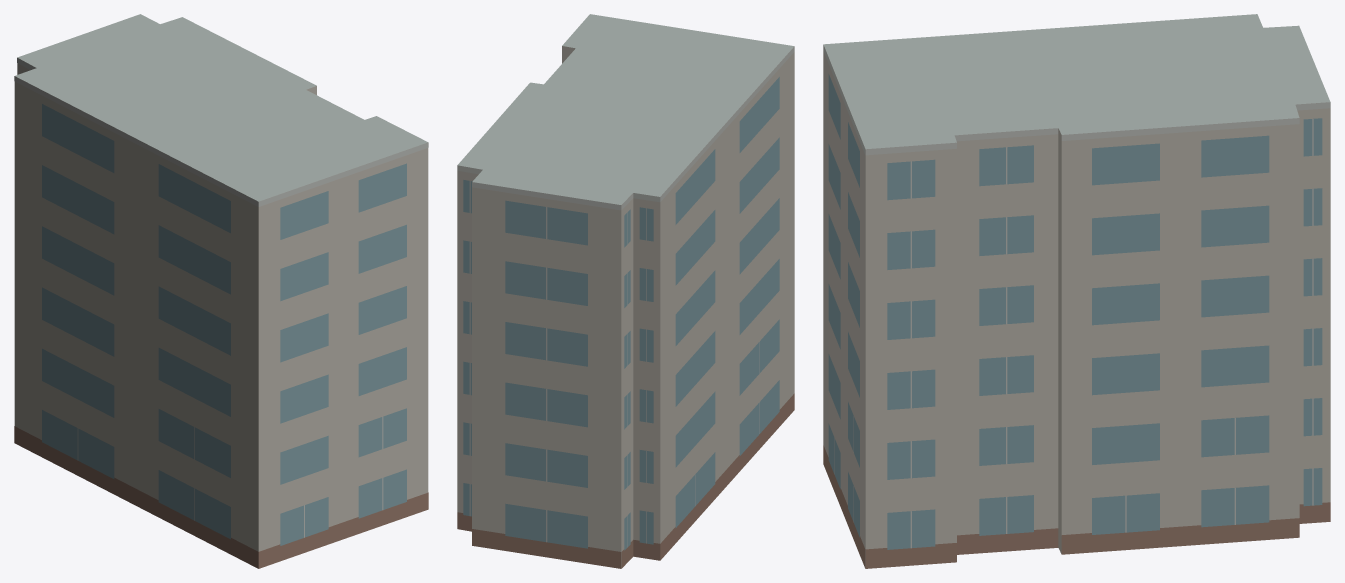
Rendered from survey-upis-32701275.glb.
The picture shows the model from 3 angles, left to right: view 1: azimuth 30°, elevation 25°; view 2: azimuth 150°, elevation 25°; view 3: azimuth 270°, elevation 25°; orthographic projection. The views are drawn at different scales.
Parts seen in each view (by area): view 1: survey-upis-32701275.tmp; view 2: survey-upis-32701275.tmp; view 3: survey-upis-32701275.tmp.
Boxes of the visible parts, box(x1,y1,x2,y2) form: survey-upis-32701275.tmp: box(14, 14, 428, 568); survey-upis-32701275.tmp: box(457, 14, 794, 568); survey-upis-32701275.tmp: box(823, 14, 1330, 568).
Size of the model in its own units: 11.48 by 16.6 by 18.19.
